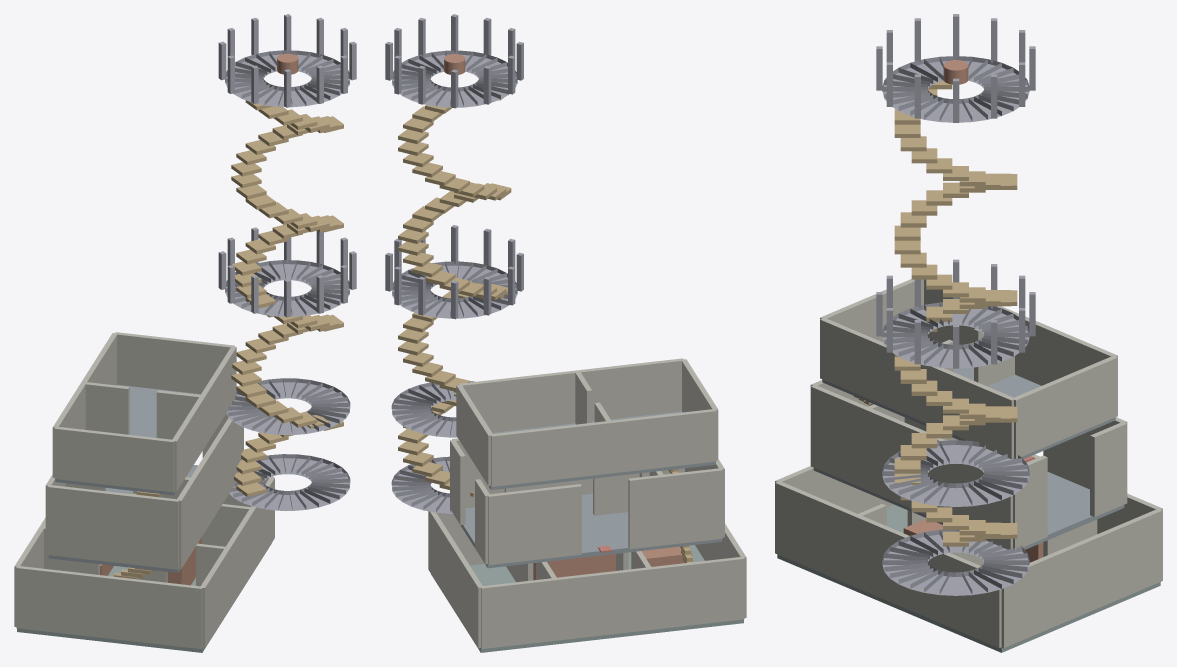
Rendered from lighthouse_greybox_v1.glb.
3 views of the same model, side by side, from view 1: azimuth 30°, elevation 25°; view 2: azimuth 150°, elevation 25°; view 3: azimuth 270°, elevation 25° (orthographic). The views are drawn at different scales.
Parts seen in each view (by area): view 1: B1_wall_west, G_west, L1_wall_west, L1_wall_east, B1_wall_north, G_north, L1_wall_north, L1_divider_0, L1_wall_south, L1_floor, L1_divider_1, B1_partitionB_1 (+6 smaller); view 2: B1_wall_south, L1_wall_south, L1_wall_north, G_south_0, G_south_1, B1_wall_east, G_floor, B1_floor, L1_wall_east, G_hall_partition_0, L1_wall_west, B1_boiler_placeholder (+8 smaller); view 3: B1_wall_north, B1_wall_east, G_north, L1_wall_north, L1_wall_east, L1_wall_south, G_east_0, G_floor, G_east_1, L1_wall_west, B1_floor, B1_wall_west (+6 smaller).
Boxes of the visible parts, left/top/right/bottom form: B1_wall_west: left=16, top=566, right=202, bottom=648; G_west: left=47, top=484, right=178, bottom=569; L1_wall_west: left=54, top=426, right=174, bottom=492; L1_wall_east: left=115, top=332, right=234, bottom=394; B1_wall_north: left=200, top=477, right=274, bottom=648; G_north: left=177, top=418, right=243, bottom=568; L1_wall_north: left=172, top=346, right=236, bottom=491; L1_divider_0: left=83, top=382, right=129, bottom=434; L1_wall_south: left=52, top=333, right=117, bottom=477; L1_floor: left=55, top=384, right=200, bottom=495; L1_divider_1: left=156, top=390, right=202, bottom=439; B1_partitionB_1: left=202, top=504, right=250, bottom=546; B1_wall_south: left=480, top=557, right=744, bottom=648; L1_wall_south: left=490, top=409, right=716, bottom=486; L1_wall_north: left=458, top=358, right=683, bottom=432; G_south_0: left=628, top=468, right=722, bottom=549; G_south_1: left=487, top=484, right=581, bottom=564; B1_wall_east: left=428, top=511, right=482, bottom=648; G_floor: left=460, top=494, right=721, bottom=568; B1_floor: left=431, top=545, right=743, bottom=652; L1_wall_east: left=456, top=385, right=492, bottom=486; G_hall_partition_0: left=593, top=473, right=639, bottom=515; L1_wall_west: left=681, top=359, right=718, bottom=460; B1_boiler_placeholder: left=533, top=554, right=615, bottom=580; B1_wall_north: left=775, top=481, right=1001, bottom=647; B1_wall_east: left=1001, top=509, right=1162, bottom=647; G_north: left=810, top=385, right=1012, bottom=549; L1_wall_north: left=820, top=317, right=1014, bottom=459; L1_wall_east: left=1013, top=356, right=1117, bottom=458; L1_wall_south: left=924, top=279, right=1117, bottom=385; G_east_0: left=1090, top=422, right=1127, bottom=516; G_floor: left=813, top=468, right=1124, bottom=549; G_east_1: left=1013, top=455, right=1047, bottom=550; L1_wall_west: left=820, top=279, right=923, bottom=342; B1_floor: left=777, top=504, right=1160, bottom=652; B1_wall_west: left=775, top=466, right=893, bottom=513.
Size of the model in its own units: 15.93 by 23.07 by 13.45.
